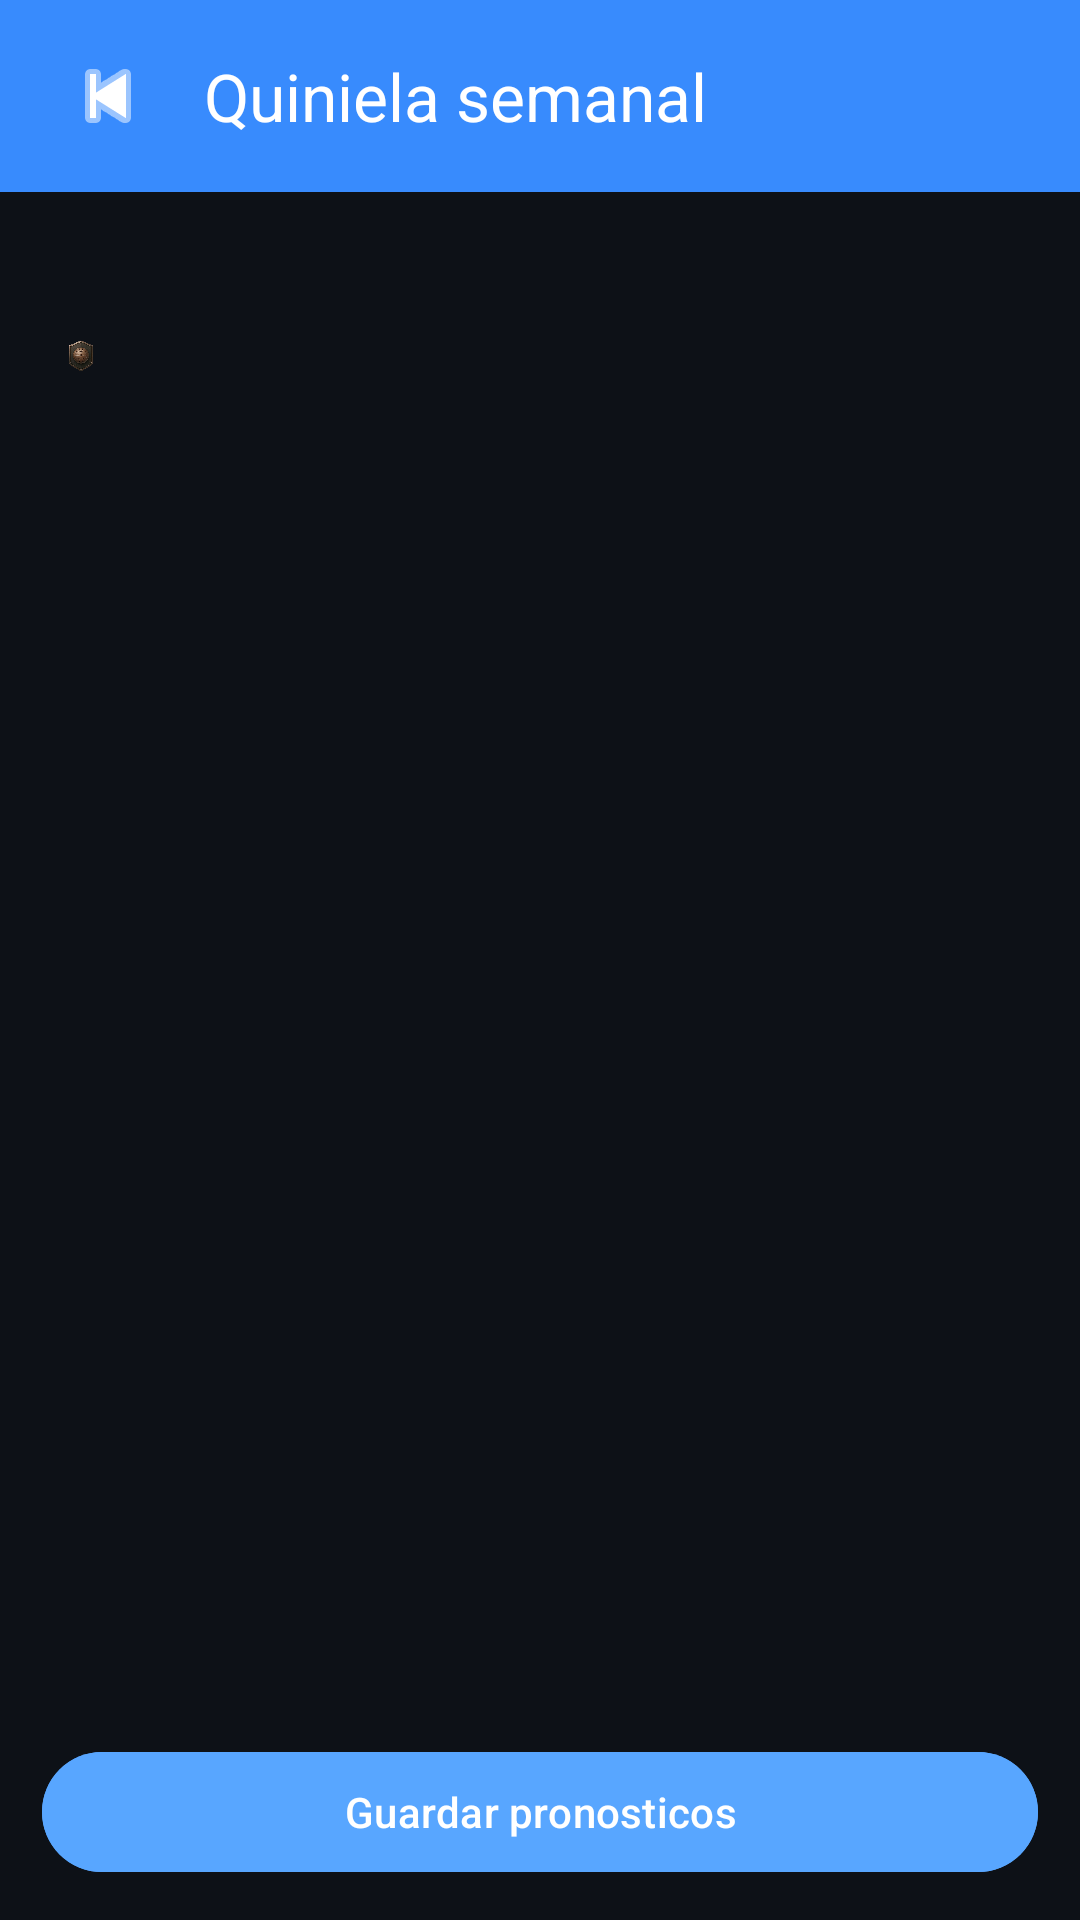

Locate icon controls on the screen. Image size 1080 x 1920, boxes as (x1, y1, x2, y2).
Rango: (69, 341, 93, 371)
